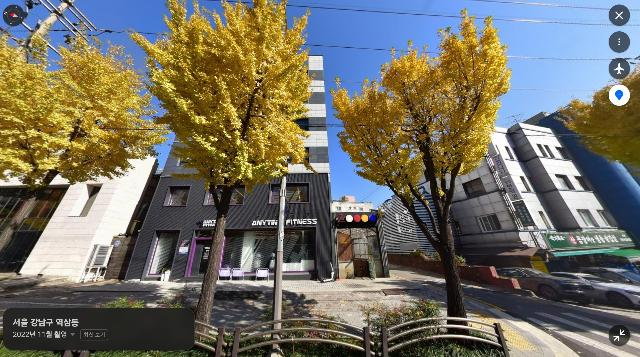ginkgo: (123, 0, 317, 335), (330, 8, 513, 337), (0, 19, 167, 277), (556, 65, 640, 180)
